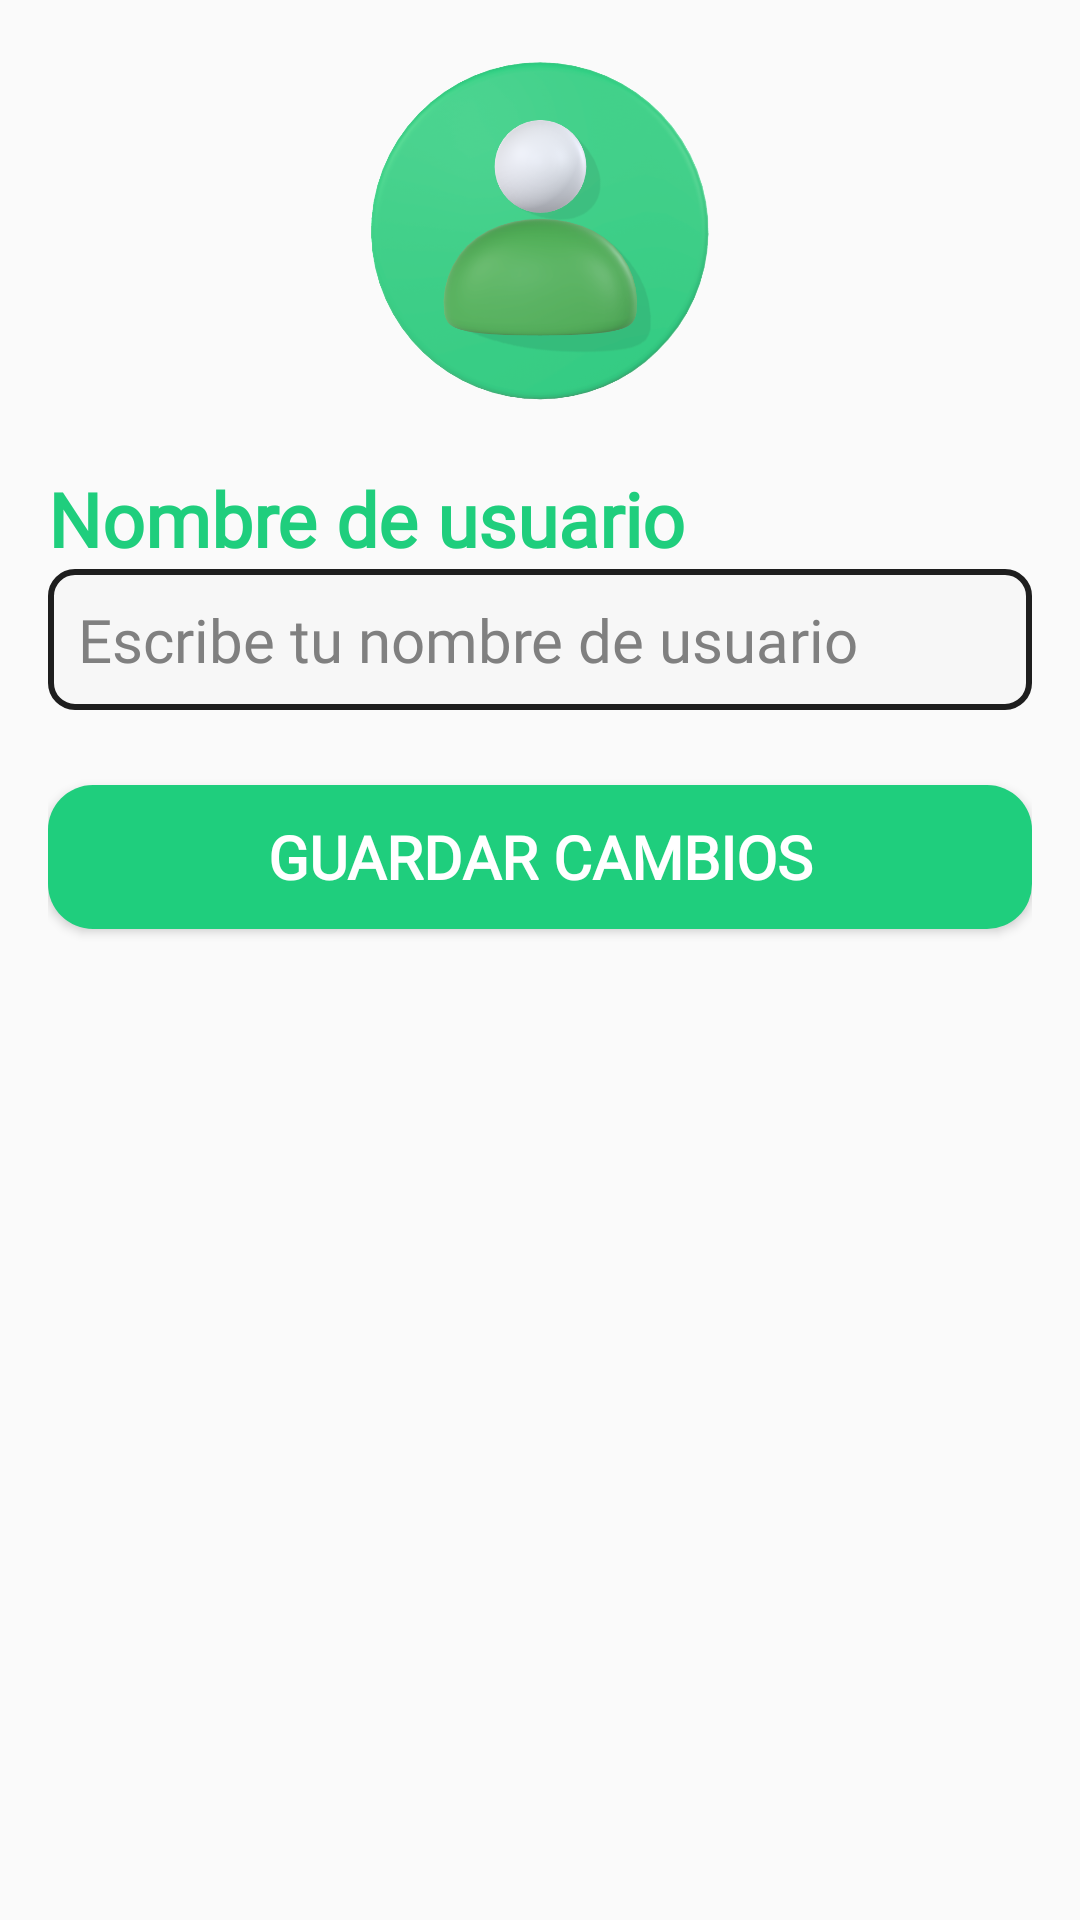

Icons on this 1080*1920 Android screen, each with the point to tap as (x,y):
perfil: (540,231)
